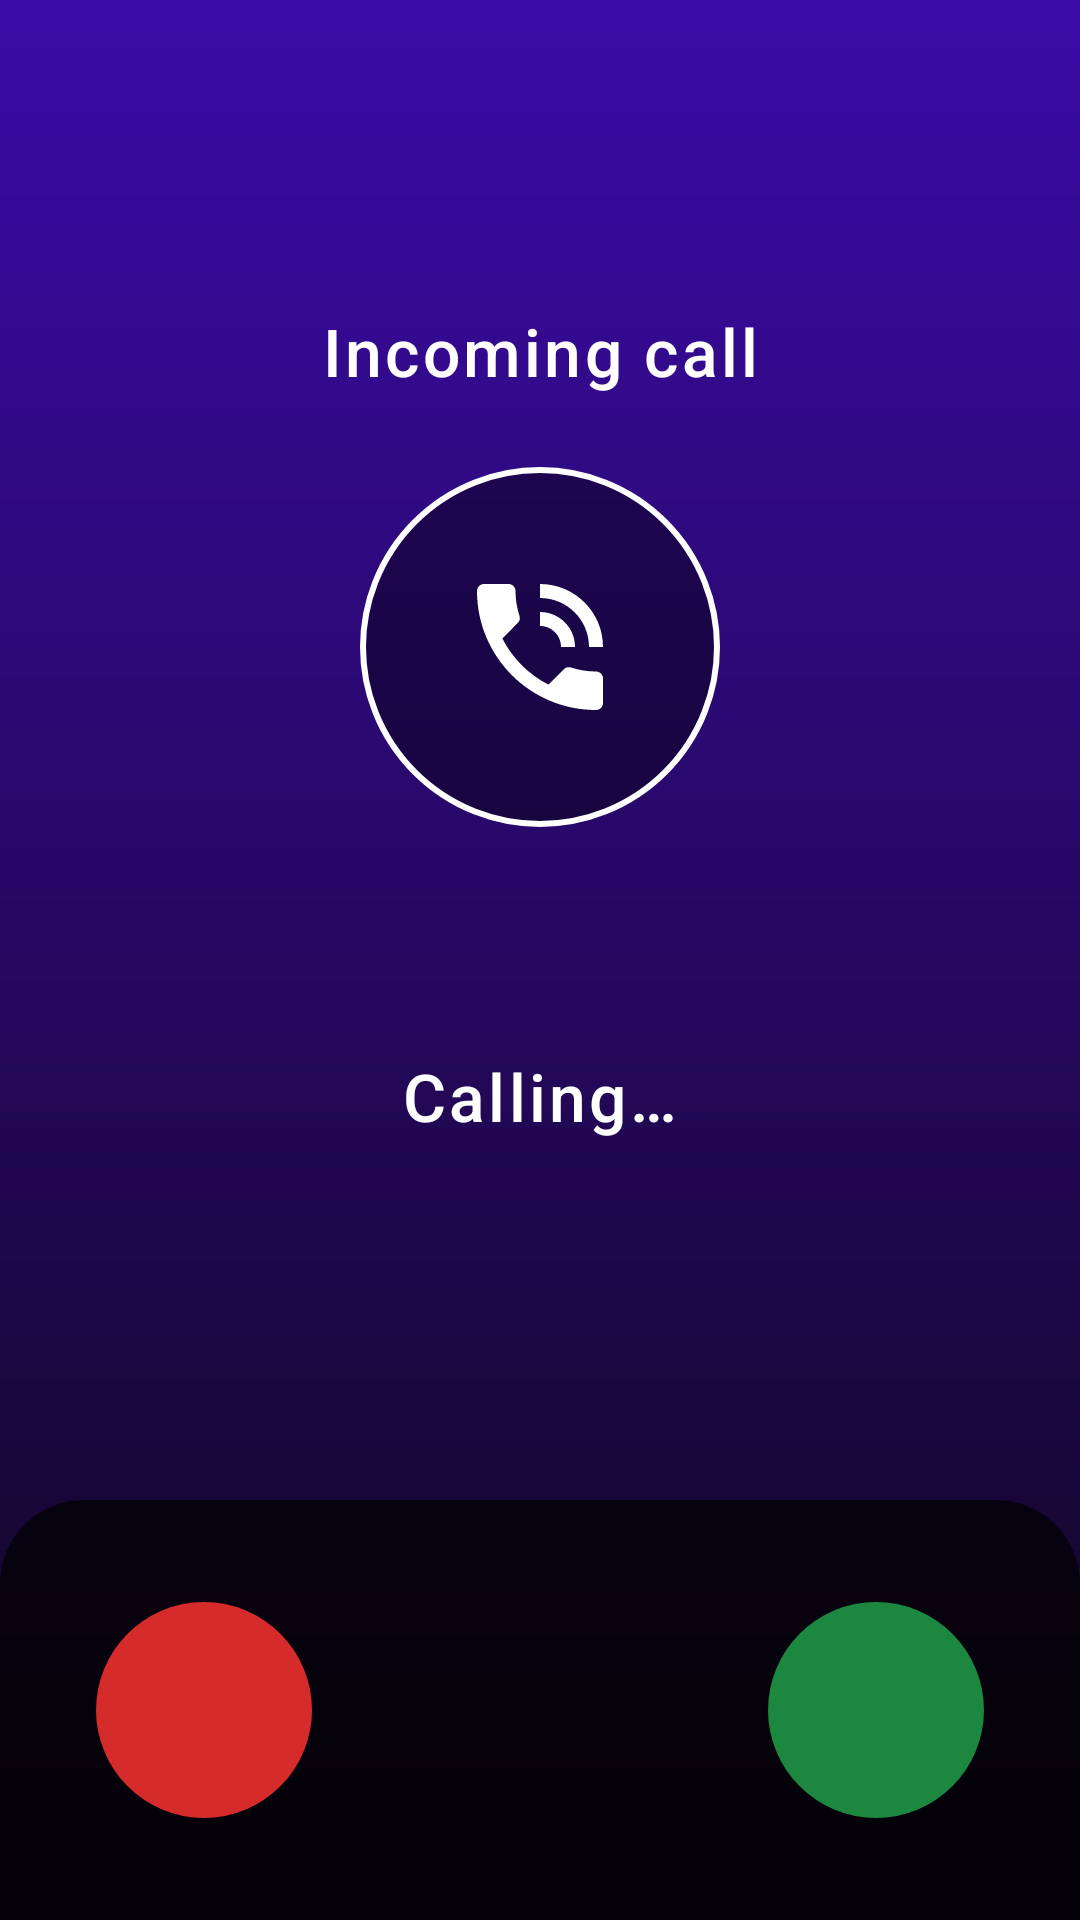

Where to tap for icons on this 1080 × 1920 app screen, as (x,y):
phone in talk: (540,647)
